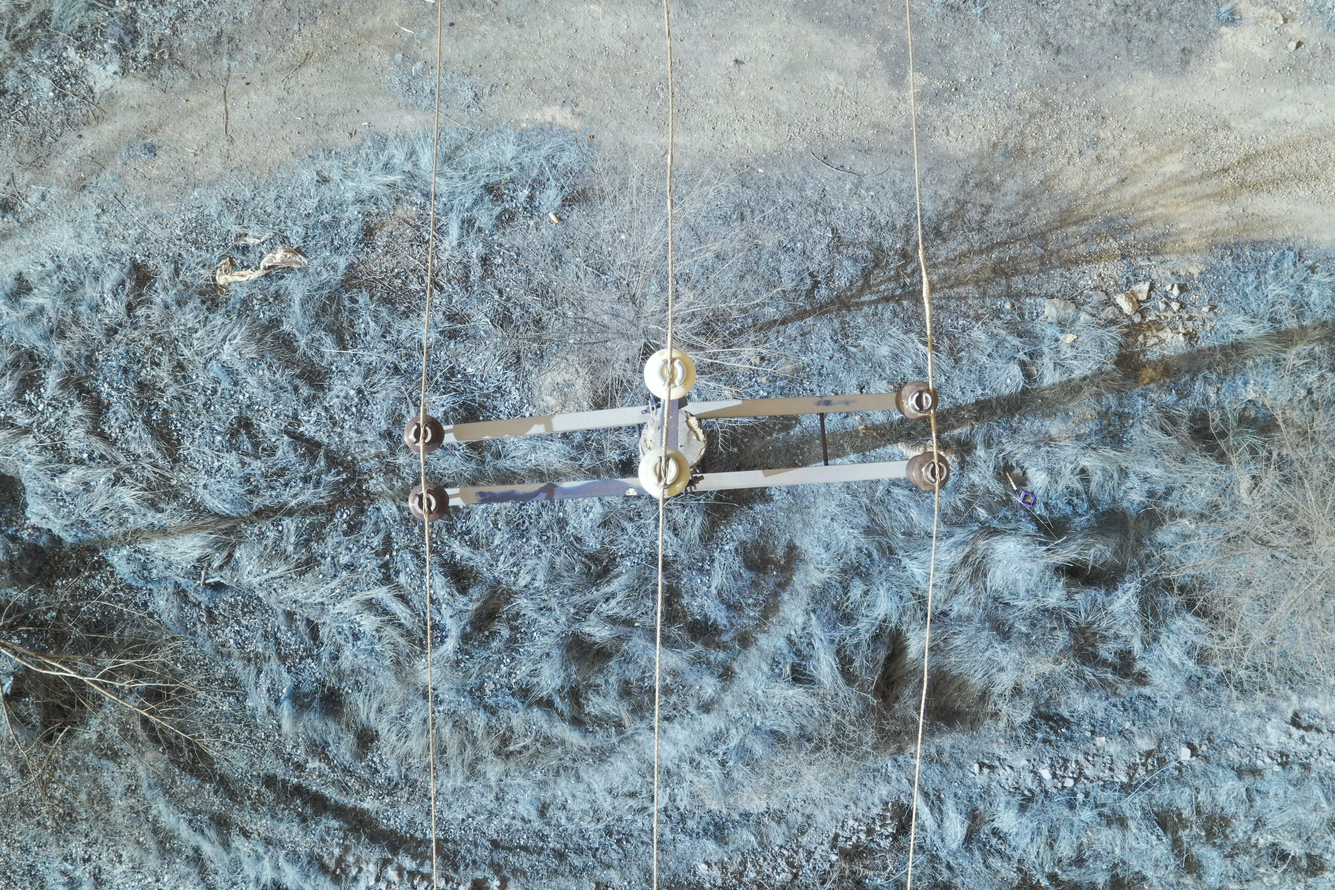severe_soiling_no_discharge_whole: (904, 451, 952, 494), (894, 380, 941, 423)
